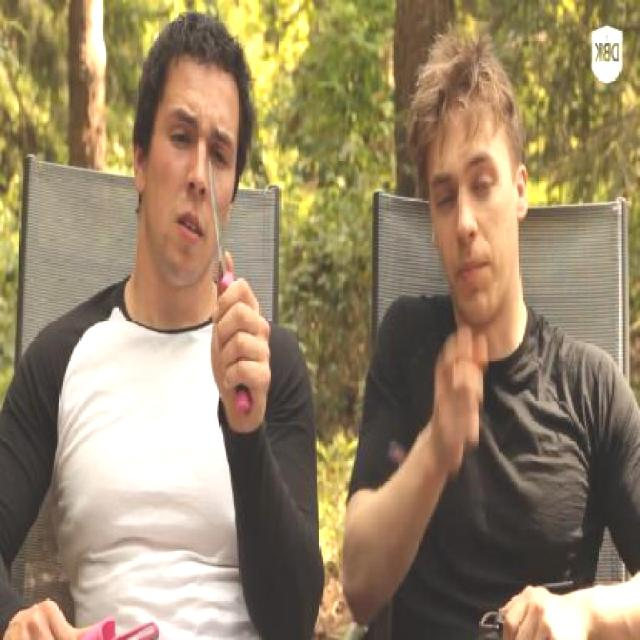knife: (202, 143, 268, 379)
